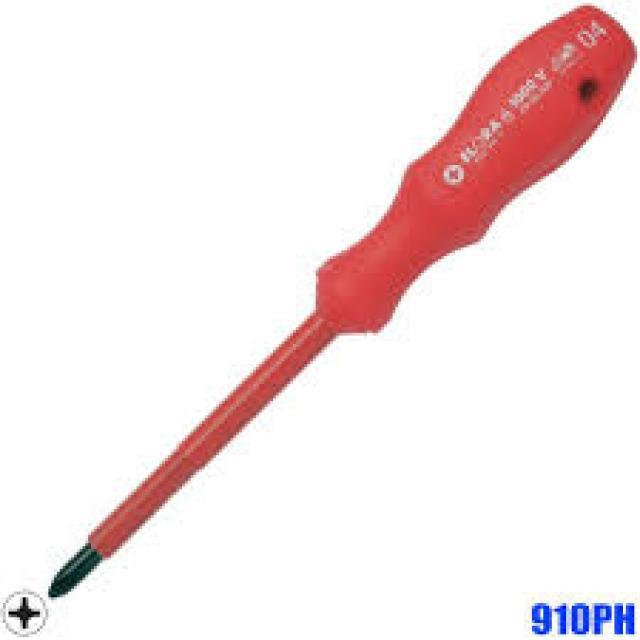screwdriver: (44, 2, 639, 600)
